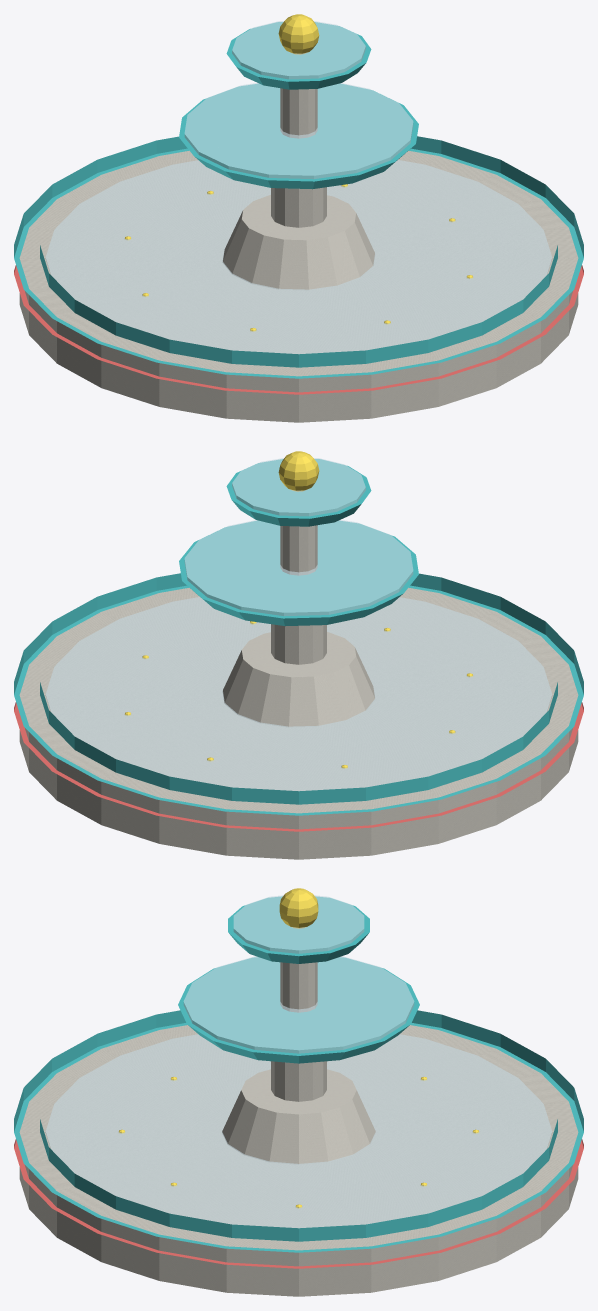
The model's file is theme-park-rides-and-coasters-theme-park-rides-and-coa-296bb2b9__28714.glb.
3 renders of one model, top to bottom at view 1: azimuth 30°, elevation 25°; view 2: azimuth 150°, elevation 25°; view 3: azimuth 270°, elevation 25°, orthographic.
Visible parts, largest first — view 1: theme-park-rides-and-coasters-park-fountain; view 2: theme-park-rides-and-coasters-park-fountain; view 3: theme-park-rides-and-coasters-park-fountain.
Part boxes in pixels (x1,y1,x2,y2): theme-park-rides-and-coasters-park-fountain: (14, 14, 583, 422); theme-park-rides-and-coasters-park-fountain: (14, 451, 583, 859); theme-park-rides-and-coasters-park-fountain: (14, 888, 583, 1296).
Size of the model in its own units: 6.12 by 3.42 by 6.12.
5 materials, 1 textured.
